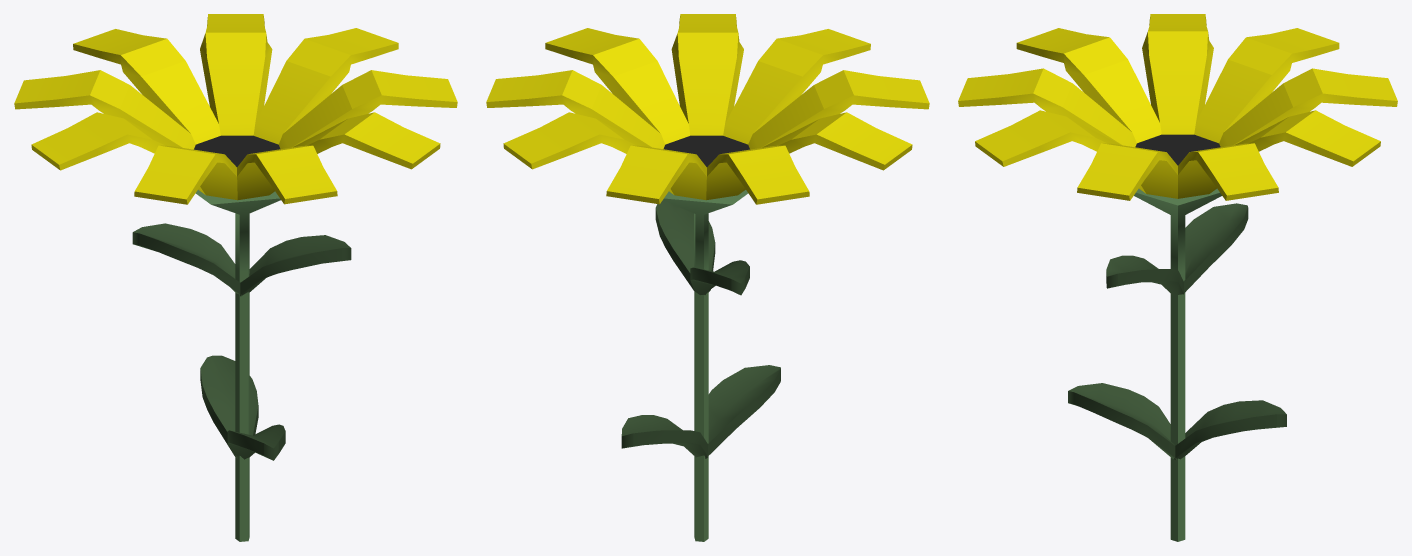
Rendered from Flower_6.fbx.
3 views of the same model, side by side, from view 1: azimuth 30°, elevation 25°; view 2: azimuth 150°, elevation 25°; view 3: azimuth 270°, elevation 25° (orthographic).
Visible parts, largest first — view 1: pPipe21, pCube13, pPipe20, pCube12, pCylinder4; view 2: pPipe21, pCube12, pPipe20, pCube13, pCylinder4; view 3: pPipe21, pCube12, pPipe20, pCube13, pCylinder4.
Part boxes in pixels (x1,y1,x2,y2): pPipe21: (14, 14, 457, 204); pCube13: (132, 223, 351, 296); pPipe20: (195, 190, 280, 541); pCube12: (200, 355, 285, 460); pCylinder4: (194, 135, 280, 166); pPipe21: (486, 14, 929, 204); pCube12: (621, 365, 780, 458); pPipe20: (663, 190, 748, 541); pCube13: (655, 200, 749, 295); pCylinder4: (663, 135, 749, 166); pPipe21: (958, 14, 1397, 200); pCube12: (1068, 383, 1286, 459); pPipe20: (1134, 188, 1221, 541); pCube13: (1106, 203, 1248, 295); pCylinder4: (1135, 134, 1220, 165).
Size of the model in its own units: 58.64 by 66.33 by 59.55.
